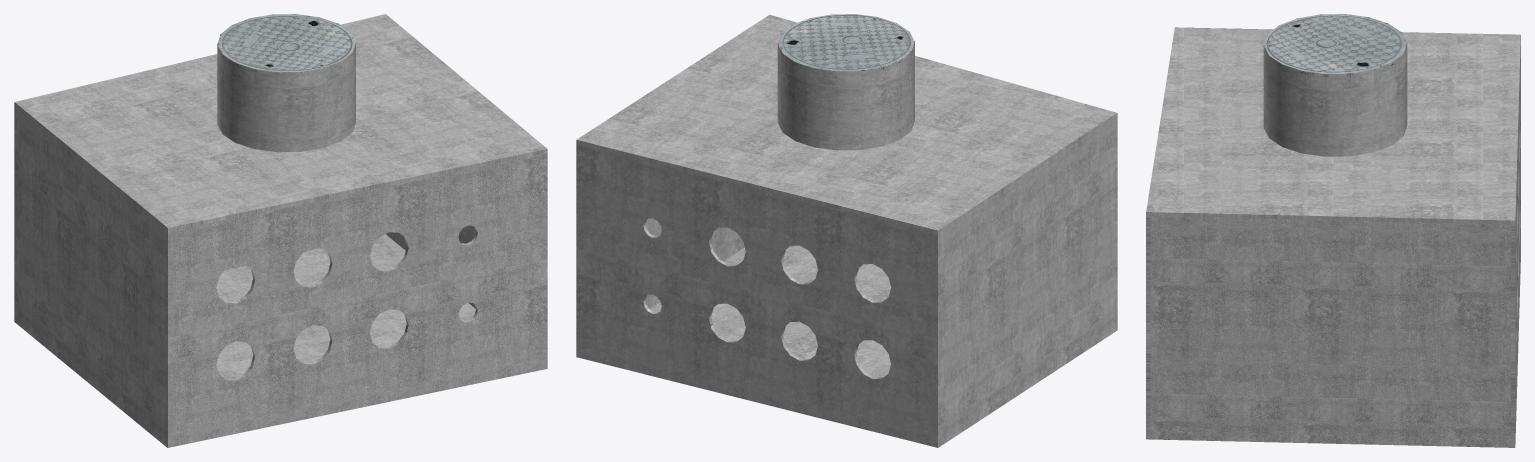
The model's file is dlj.obj.
3 renders of one model, left to right at view 1: azimuth 30°, elevation 25°; view 2: azimuth 150°, elevation 25°; view 3: azimuth 270°, elevation 25°, orthographic. The views are drawn at different scales.
Parts seen in each view (by area): view 1: GZLX_30; view 2: GZLX_30; view 3: GZLX_30.
Boxes of the visible parts, left/top/right/bottom form: GZLX_30: left=14, top=14, right=547, bottom=447; GZLX_30: left=576, top=14, right=1117, bottom=447; GZLX_30: left=1146, top=14, right=1520, bottom=447.
Size of the model in its own units: 3.06 by 2.29 by 2.51.
